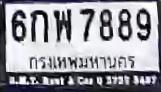6: (11, 9, 25, 41)
7: (79, 8, 94, 41)
8: (117, 8, 131, 40), (98, 8, 112, 40)
9: (135, 7, 150, 40)
A01: (30, 9, 48, 42)
A30: (53, 8, 71, 42)
BKK: (26, 52, 138, 72)
